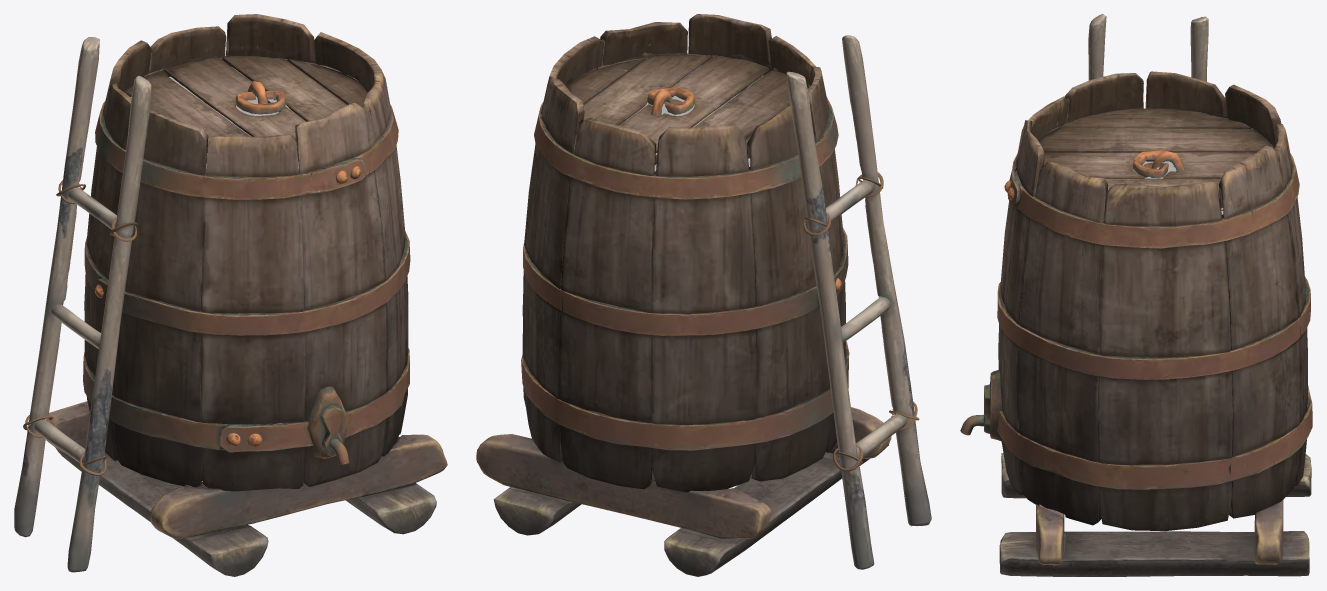
3 views of the same model, side by side, from view 1: azimuth 30°, elevation 25°; view 2: azimuth 150°, elevation 25°; view 3: azimuth 270°, elevation 25° (orthographic). The views are drawn at different scales.
Parts seen in each view (by area): view 1: SM_Brewing_Barrel_01_LOD0; view 2: SM_Brewing_Barrel_01_LOD0; view 3: SM_Brewing_Barrel_01_LOD0.
Boxes of the visible parts, bbox=[...] form: SM_Brewing_Barrel_01_LOD0: bbox=[14, 14, 447, 576]; SM_Brewing_Barrel_01_LOD0: bbox=[476, 14, 931, 576]; SM_Brewing_Barrel_01_LOD0: bbox=[960, 14, 1312, 576].
Size of the model in its own units: 1.82 by 2.32 by 1.61.
1 material, 1 textured.
